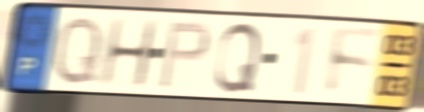1: (291, 25, 317, 96)
F: (324, 24, 384, 99)
H: (96, 17, 160, 90)
P: (156, 19, 213, 91)
Q: (50, 13, 106, 88), (212, 20, 265, 95)
